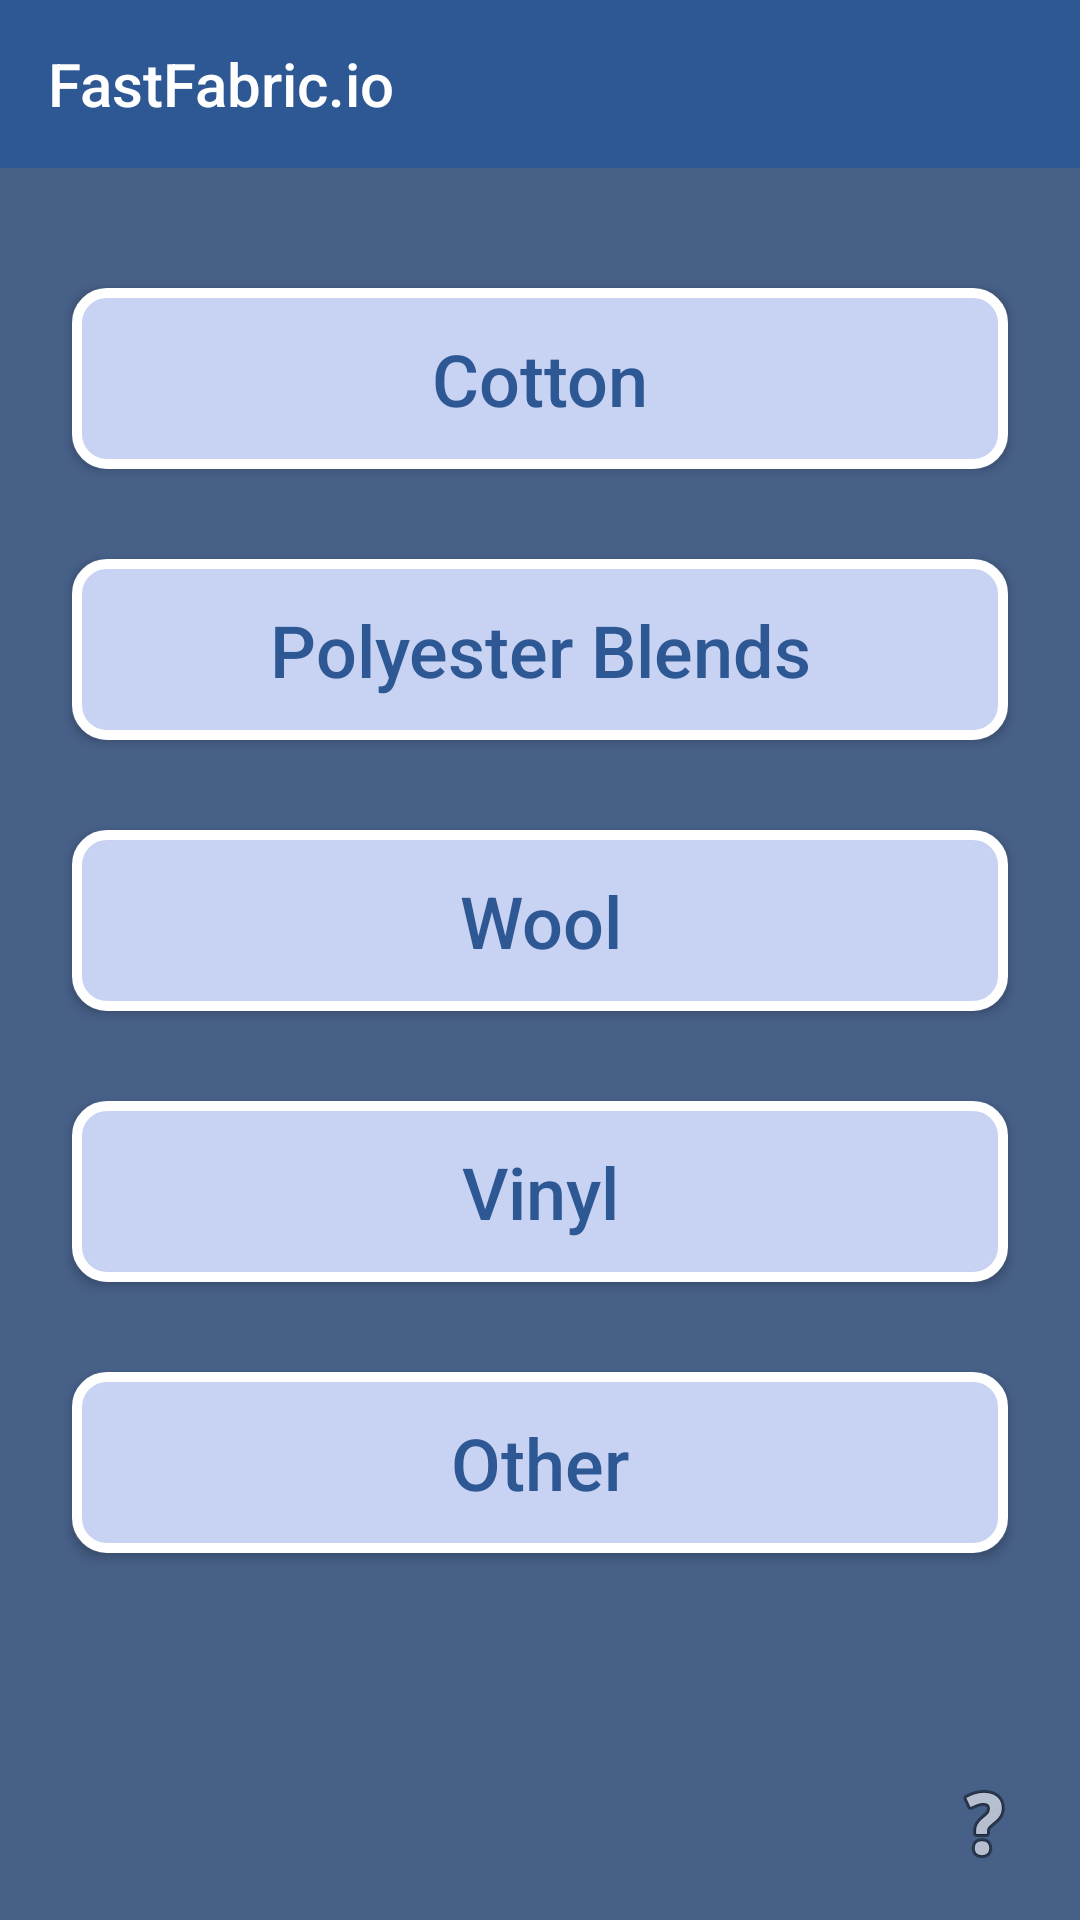

Named icons in this screenshot (1080w x 1920h) and their centers, (x=x, y=y):
help: (x=984, y=1824)
